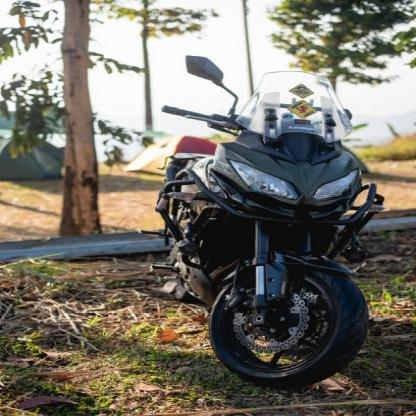Motorcycle: (130, 51, 389, 390)
